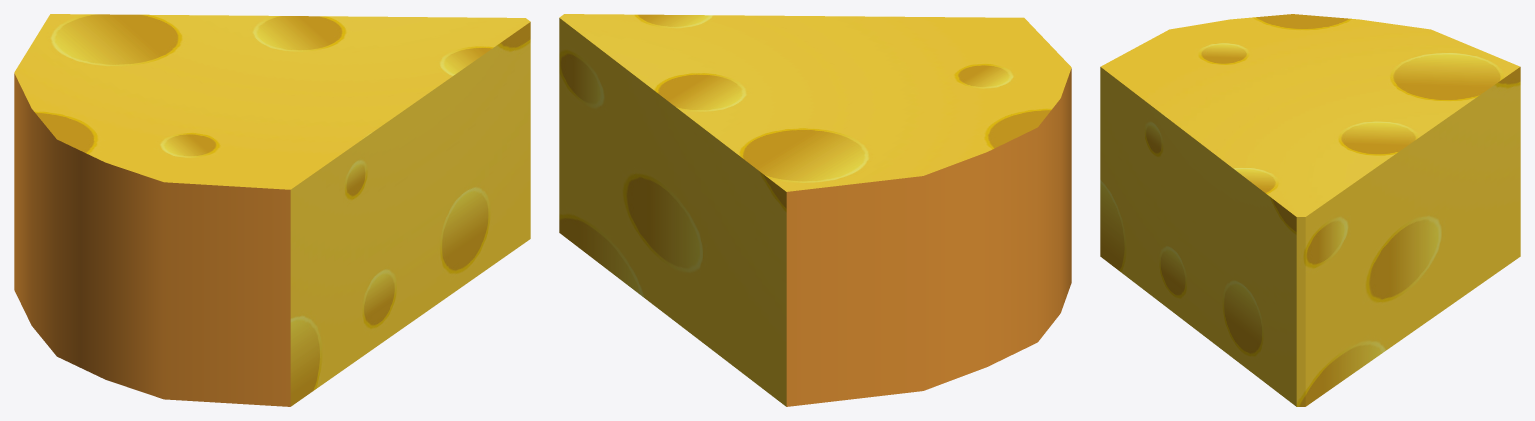
Rendered from cheese.fbx.
3 views of the same model, side by side, from view 1: azimuth 30°, elevation 25°; view 2: azimuth 150°, elevation 25°; view 3: azimuth 270°, elevation 25° (orthographic). The views are drawn at different scales.
Parts seen in each view (by area): view 1: pCube1; view 2: pCube1; view 3: pCube1.
Boxes of the visible parts, left/top/right/bottom form: pCube1: left=14, top=14, right=530, bottom=406; pCube1: left=559, top=14, right=1071, bottom=406; pCube1: left=1100, top=14, right=1520, bottom=406.
Size of the model in its own units: 5.69 by 2.48 by 4.97.
